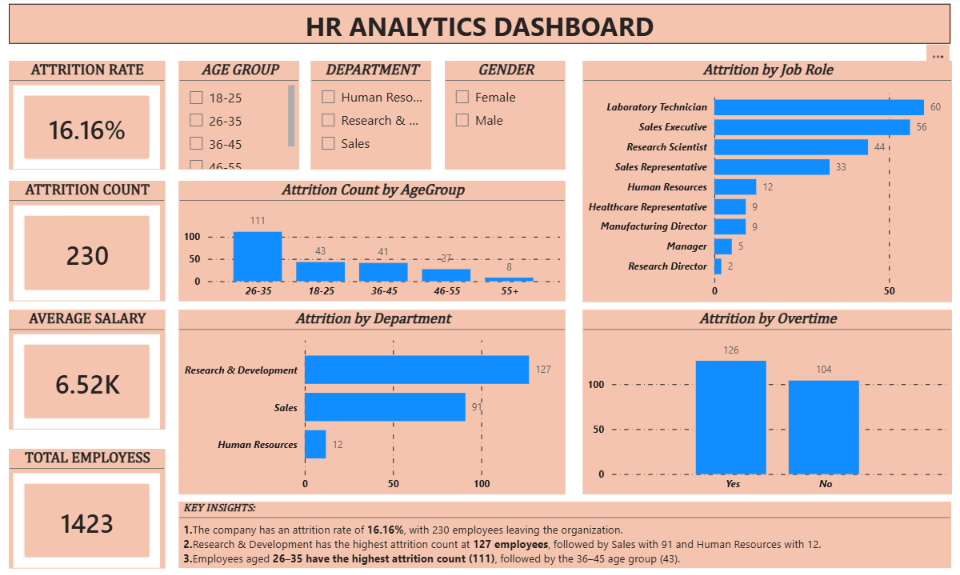

The page's visual inventory and layout, read from the dashboard file:
{"tool":"powerbi","page":{"name":"hr dashboard","canvas":[1280,720],"ordinal":0},"visuals":[{"type":"actionButton","box":[0,0,100,40],"z":1},{"type":"cardVisual","title":"TOTAL EMPLOYESS","fields":{"Data":["hr_analytics hr.Total Employees"]},"box":[65.2,561.8,194.2,148.6],"z":2},{"type":"cardVisual","title":"AVERAGE SALARY","fields":{"Data":["hr_analytics hr.Average Salary"]},"box":[65.2,389.7,194.2,148.6],"z":3},{"type":"cardVisual","title":"ATTRITION RATE","fields":{"Data":["hr_analytics hr.Attrition Rate"]},"box":[65.2,79.5,194.2,135.6],"z":4},{"type":"cardVisual","title":"ATTRITION COUNT","fields":{"Data":["hr_analytics hr.Attrition Count"]},"box":[65.2,229.4,194.2,149.9],"z":5},{"type":"textbox","box":[65.2,9.1,1171.8,49.5],"z":6},{"type":"clusteredBarChart","title":"Attrition by Department","fields":{"Category":["hr_analytics hr.Department"],"Y":["hr_analytics hr.Attrition Count"]},"box":[276.3,389.7,481,229.4],"z":7},{"type":"clusteredBarChart","title":"Attrition by Job Role","fields":{"Y":["hr_analytics hr.Attrition Count"],"Category":["hr_analytics hr.JobRole"]},"box":[778.2,79.5,458.8,299.8],"z":8},{"type":"clusteredColumnChart","title":"Attrition by Overtime","fields":{"Y":["hr_analytics hr.Attrition Count"],"Category":["hr_analytics hr.OverTime"]},"box":[778.2,389.7,458.8,229.4],"z":9},{"type":"slicer","title":"GENDER","fields":{"Values":["hr_analytics hr.Gender"]},"box":[607.4,79.5,149.9,135.6],"z":10},{"type":"slicer","title":"DEPARTMENT","fields":{"Values":["hr_analytics hr.Department"]},"box":[440.6,79.5,149.9,135.6],"z":11},{"type":"slicer","title":"AGE GROUP","fields":{"Values":["hr_analytics hr.AgeGroup"]},"box":[276.3,79.5,149.9,135.6],"z":12},{"type":"clusteredColumnChart","fields":{"Category":["hr_analytics hr.AgeGroup"],"Y":["hr_analytics hr.Attrition Count"]},"box":[276.3,229.4,481,149.9],"z":13},{"type":"textbox","title":"KEY INSIGHTS:","box":[276.3,628.3,960.7,82.1],"z":14}]}

Visuals, with their boxes in screenshot pixels (x1, y1, x2, y2):
actionButton: <box>0,0,37,27</box>
"TOTAL EMPLOYESS" cardVisual: <box>9,442,164,560</box>
"AVERAGE SALARY" cardVisual: <box>9,305,164,423</box>
"ATTRITION RATE" cardVisual: <box>9,58,164,166</box>
"ATTRITION COUNT" cardVisual: <box>9,177,164,297</box>
textbox: <box>9,2,941,42</box>
"Attrition by Department" clusteredBarChart: <box>177,305,560,487</box>
"Attrition by Job Role" clusteredBarChart: <box>576,58,941,297</box>
"Attrition by Overtime" clusteredColumnChart: <box>576,305,941,487</box>
"GENDER" slicer: <box>440,58,560,166</box>
"DEPARTMENT" slicer: <box>308,58,427,166</box>
"AGE GROUP" slicer: <box>177,58,296,166</box>
clusteredColumnChart - hr_analytics hr.AgeGroup x hr_analytics hr.Attrition Count: <box>177,177,560,297</box>
"KEY INSIGHTS:" textbox: <box>177,494,941,560</box>
